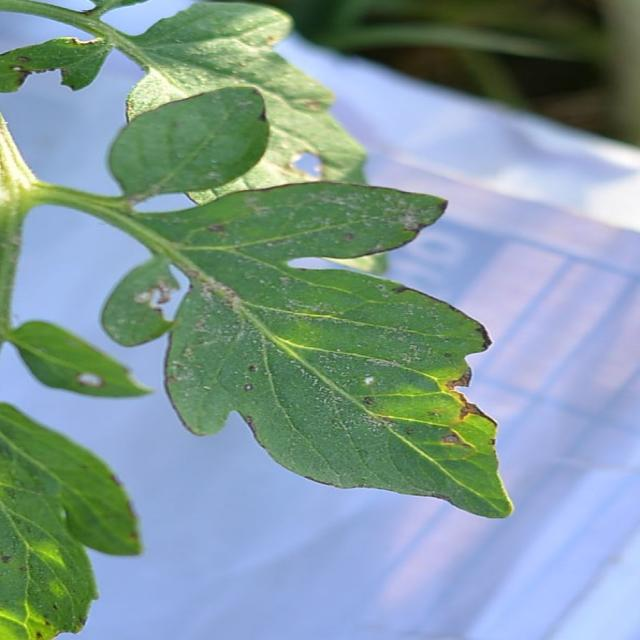infected: (410, 316, 516, 459), (126, 261, 233, 342), (252, 143, 345, 184), (54, 359, 112, 395)
